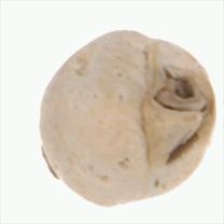L3: (140, 67, 204, 162)
L4: (39, 30, 215, 208)
